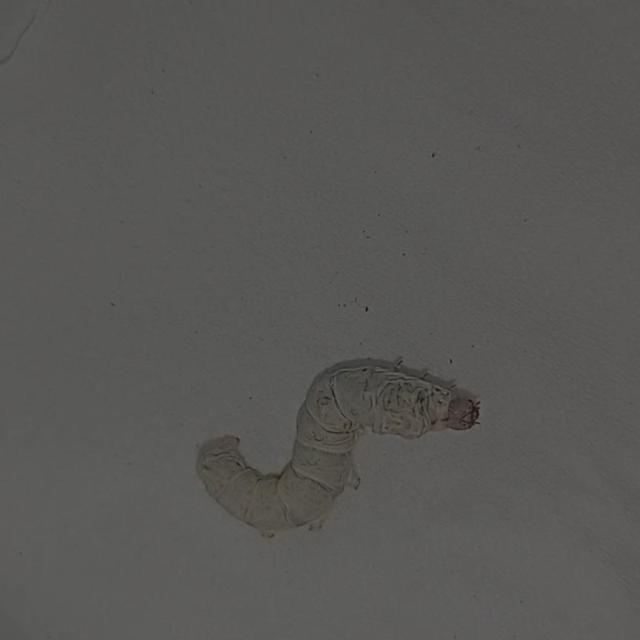Healthy: (187, 337, 529, 542)
